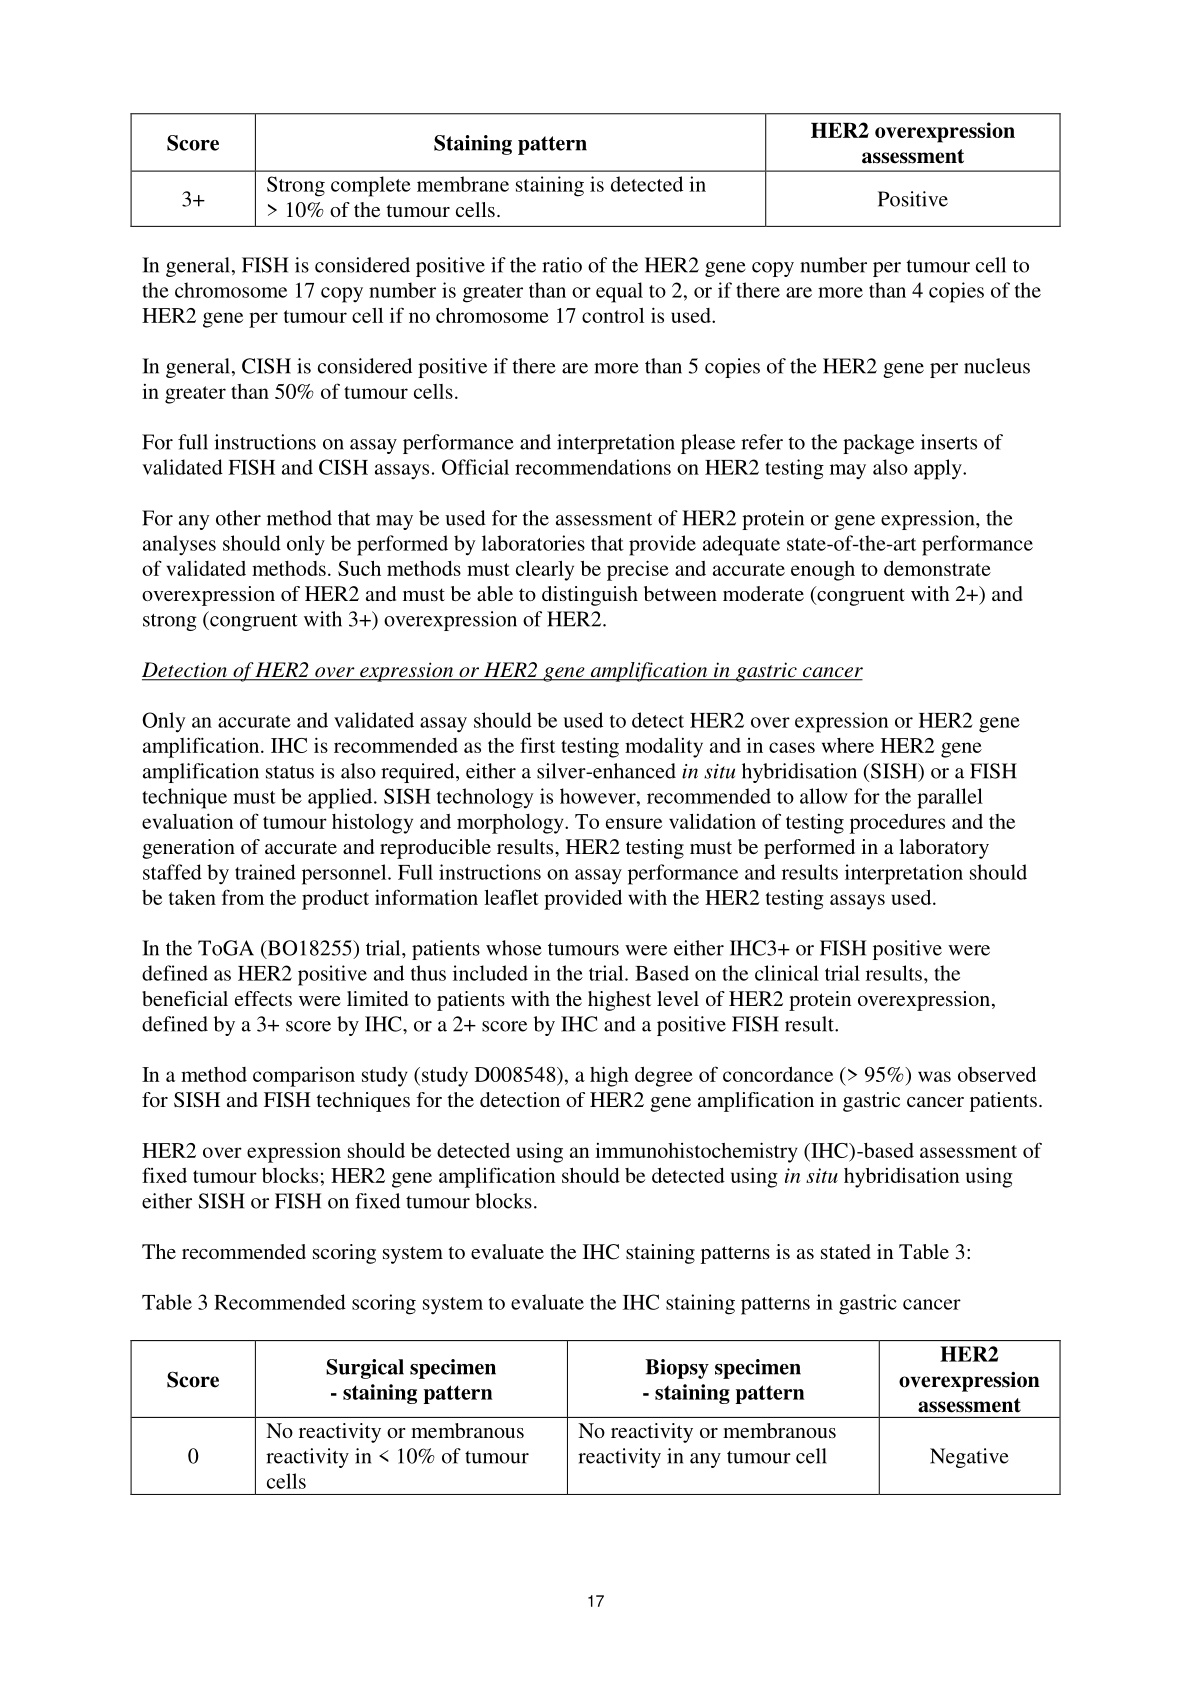full_lined: (129, 1339, 1061, 1495), (129, 112, 1061, 228)
